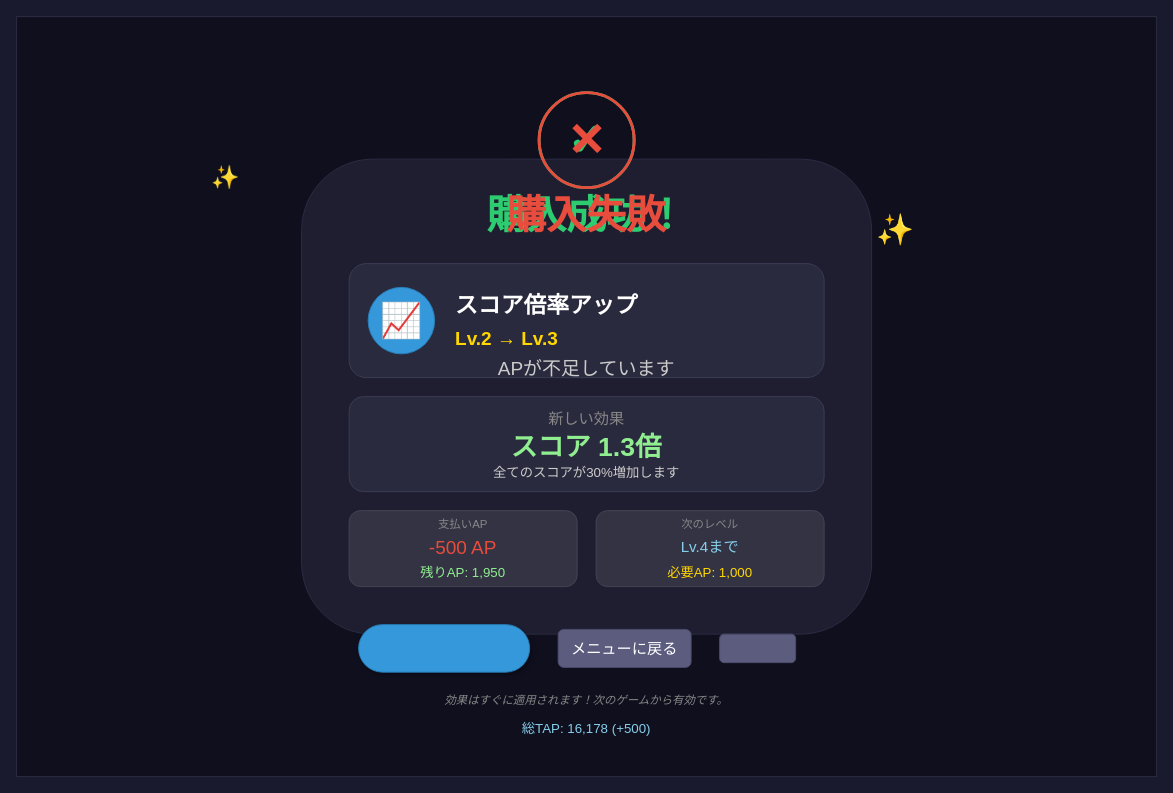
Some shapes in this 1173 by 793 pixel diagram are drawn without their labels. Here are the shapes that lost their labels. From the top down, the centre of each, then its label:
At point (444, 649): "ショップに戻る".
At point (757, 648): "詳細".
